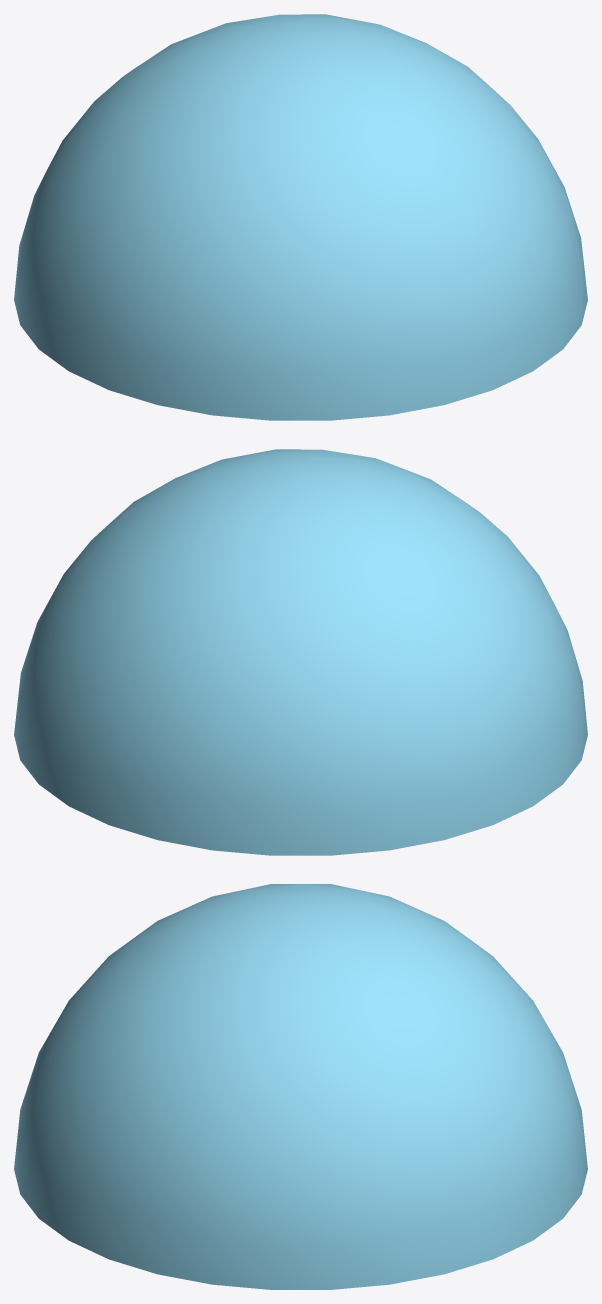
The model's file is Force_Field_01.FBX.
3 renders of one model, top to bottom at view 1: azimuth 30°, elevation 25°; view 2: azimuth 150°, elevation 25°; view 3: azimuth 270°, elevation 25°, orthographic.
Visible parts, largest first — view 1: Force_Field_01; view 2: Force_Field_01; view 3: Force_Field_01.
Boxes of the visible parts, x1=… form: Force_Field_01: x1=14, y1=14, x2=587, y2=420; Force_Field_01: x1=14, y1=449, x2=587, y2=855; Force_Field_01: x1=14, y1=884, x2=587, y2=1289.
Bounding box in the file's own units: 11.99 × 6.03 × 12.05.
